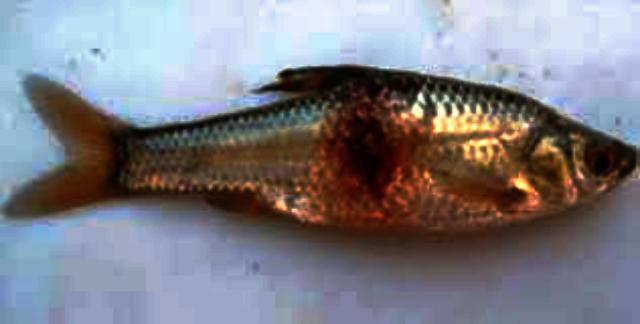Epizootic Ulcerative Syndrome -EUS-: (8, 67, 634, 231)
